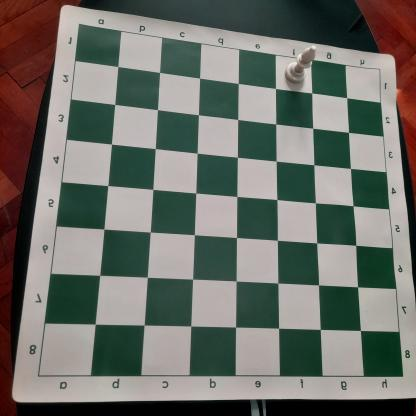white-bishop: (281, 44, 317, 84)
